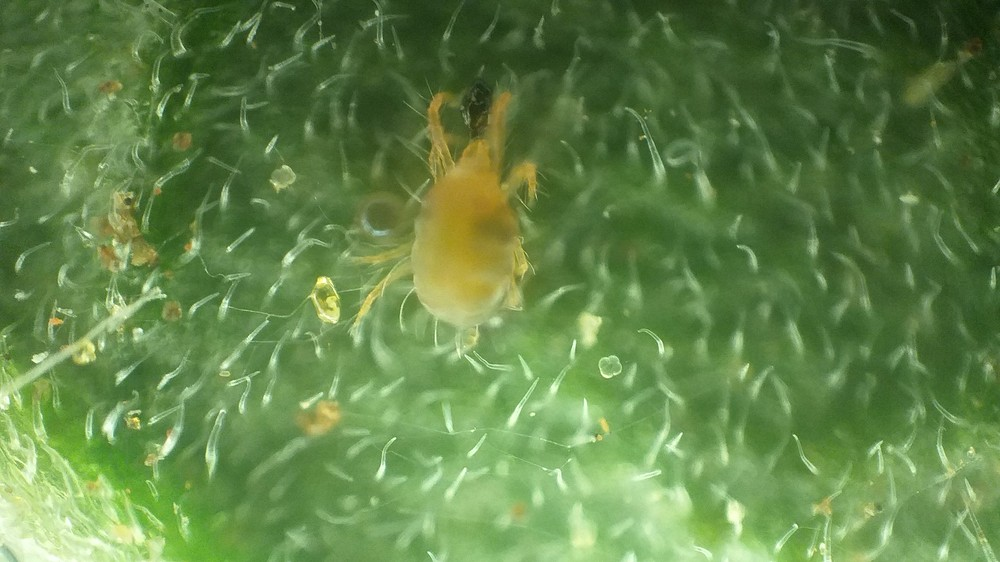Aracnido Rojo: (351, 70, 569, 372)
